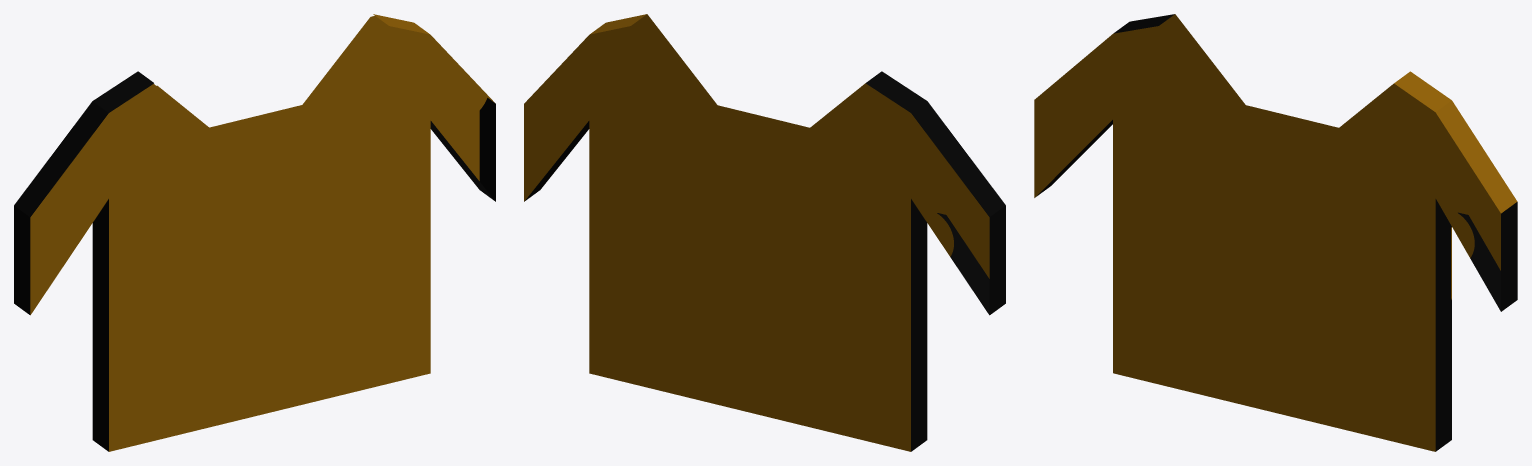
Rendered from Brown_Shirt.fbx.
3 views of the same model, side by side, from view 1: azimuth 30°, elevation 25°; view 2: azimuth 150°, elevation 25°; view 3: azimuth 330°, elevation 25° (orthographic).
Parts seen in each view (by area): view 1: pCube21; view 2: pCube21; view 3: pCube21.
Boxes of the visible parts, box(x1,y1,x2,y2) form: pCube21: box(14, 14, 495, 451); pCube21: box(524, 14, 1005, 451); pCube21: box(1034, 14, 1517, 451).
Size of the model in its own units: 12.27 by 9.01 by 0.7486.
